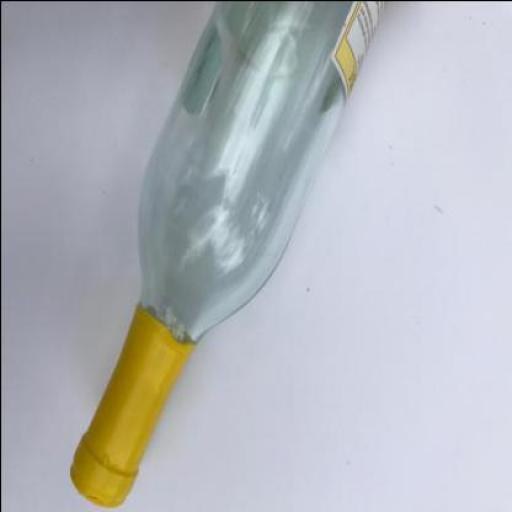glass: (69, 2, 388, 506)
